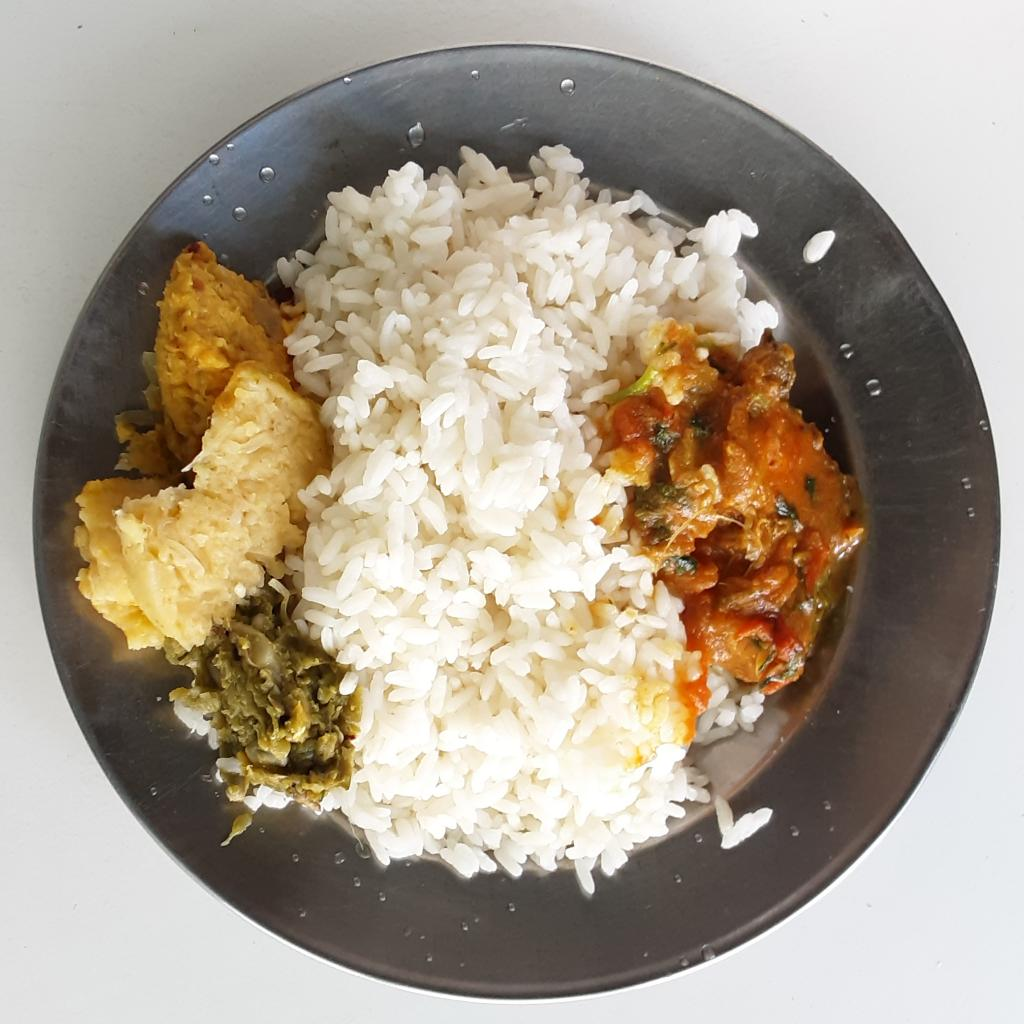banana: (70, 370, 316, 653)
daal: (114, 236, 283, 475)
fish: (614, 314, 861, 695)
rice: (268, 140, 783, 903)
shim: (163, 599, 353, 815)
